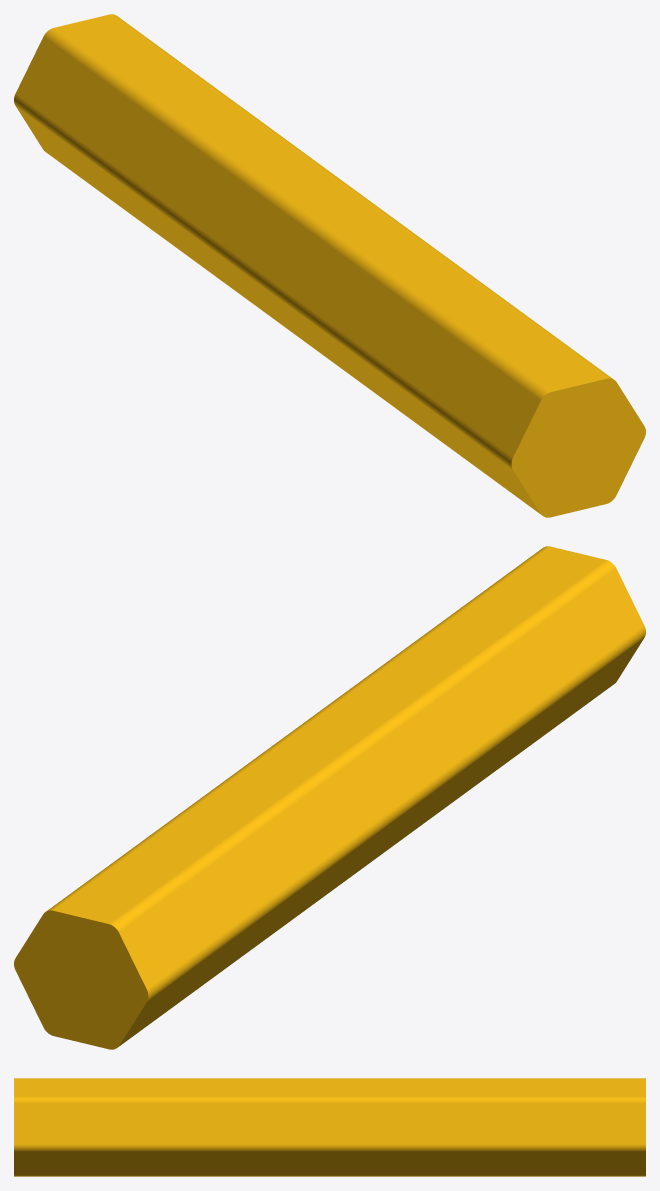
The picture shows the model from 3 angles, top to bottom: view 1: azimuth 30°, elevation 25°; view 2: azimuth 150°, elevation 25°; view 3: azimuth 270°, elevation 25°; orthographic projection. The views are drawn at different scales.
Parts seen in each view (by area): view 1: mesh2351, mesh2348, mesh2349, mesh2342, mesh2352, mesh2353, mesh2347, mesh2341; view 2: mesh2351, mesh2348, mesh2350, mesh2342, mesh2352, mesh2353, mesh2347, mesh2341; view 3: mesh2346, mesh2344, mesh2348, mesh2345, mesh2347, mesh2343, mesh2352.
Part boxes in pixels (box(x1,y1,x2,y2)): mesh2351: box(15, 37, 540, 457); mesh2348: box(54, 14, 606, 391); mesh2349: box(511, 378, 645, 517); mesh2342: box(16, 106, 539, 512); mesh2352: box(43, 28, 550, 400); mesh2353: box(14, 93, 512, 469); mesh2347: box(109, 14, 613, 379); mesh2341: box(43, 150, 541, 514); mesh2351: box(119, 569, 644, 989); mesh2348: box(53, 546, 605, 923); mesh2350: box(14, 910, 148, 1049); mesh2342: box(120, 638, 643, 1044); mesh2352: box(109, 560, 616, 932); mesh2353: box(147, 625, 645, 1001); mesh2347: box(46, 546, 550, 911); mesh2341: box(118, 682, 616, 1046); mesh2346: box(14, 1103, 645, 1143); mesh2344: box(14, 1152, 645, 1174); mesh2348: box(14, 1079, 645, 1096); mesh2345: box(14, 1144, 645, 1151); mesh2347: box(14, 1096, 645, 1103); mesh2343: box(14, 1175, 645, 1176); mesh2352: box(14, 1078, 645, 1078).
Size of the model in its own units: 0.00562 by 0.00501 by 0.036.
